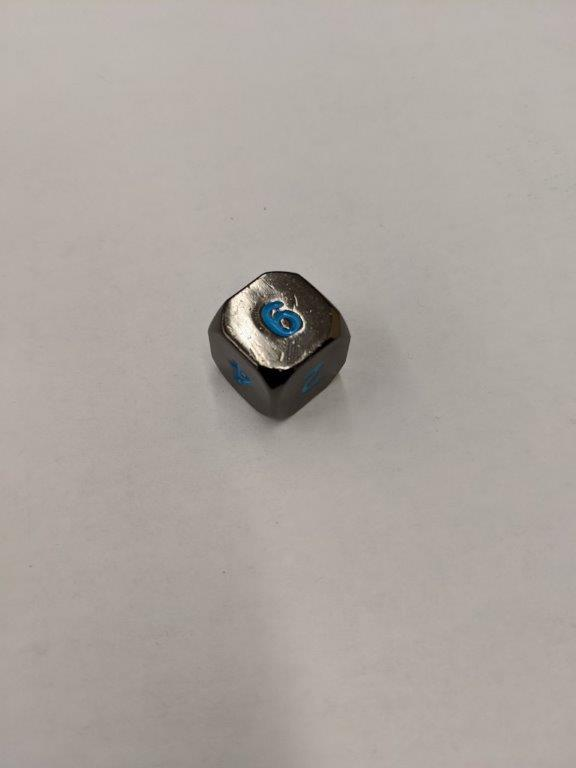d6-6: (206, 275, 355, 424)
